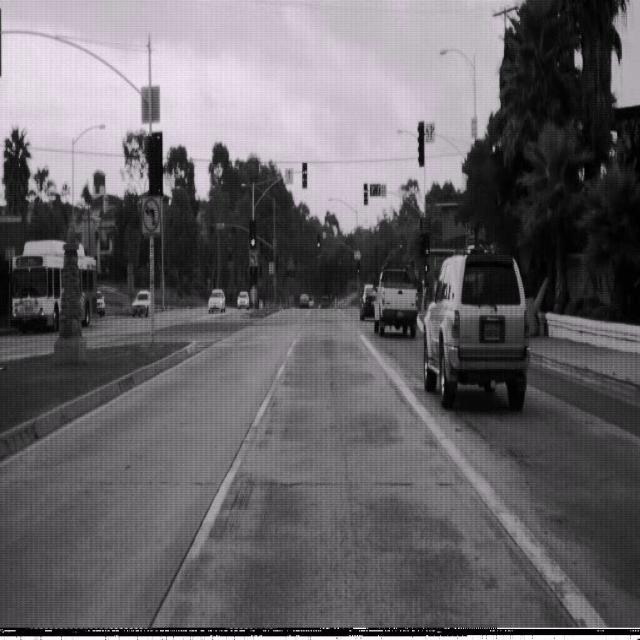noLeftTurn: (140, 194, 162, 234)
